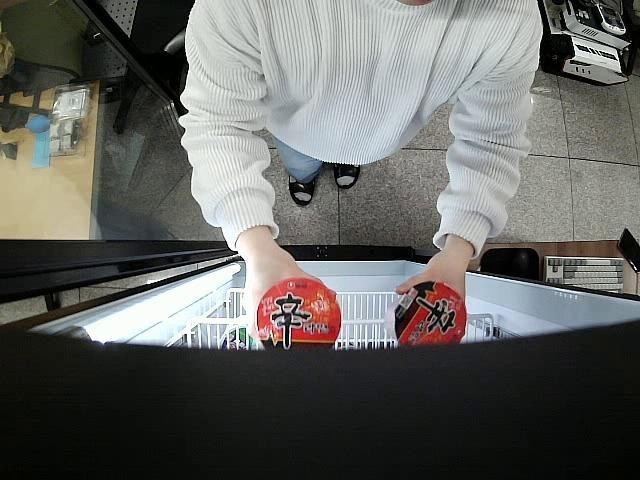02_shinRamen_S: (255, 276, 342, 352), (387, 282, 466, 346)
